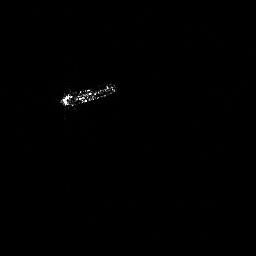ship: (58, 81, 118, 109)
